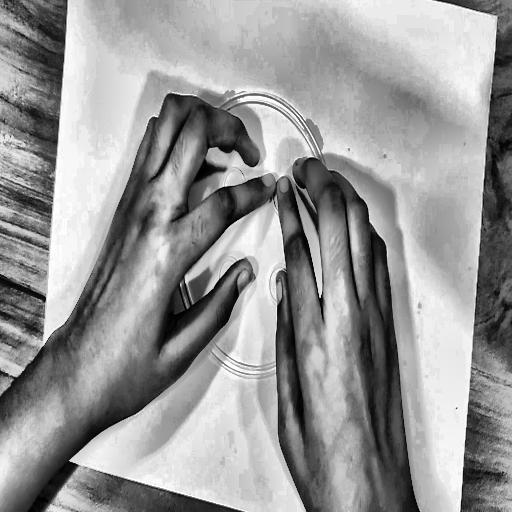bottom_left: (39, 430, 49, 446)
button: (146, 58, 361, 416)
top_right: (492, 7, 502, 24)
